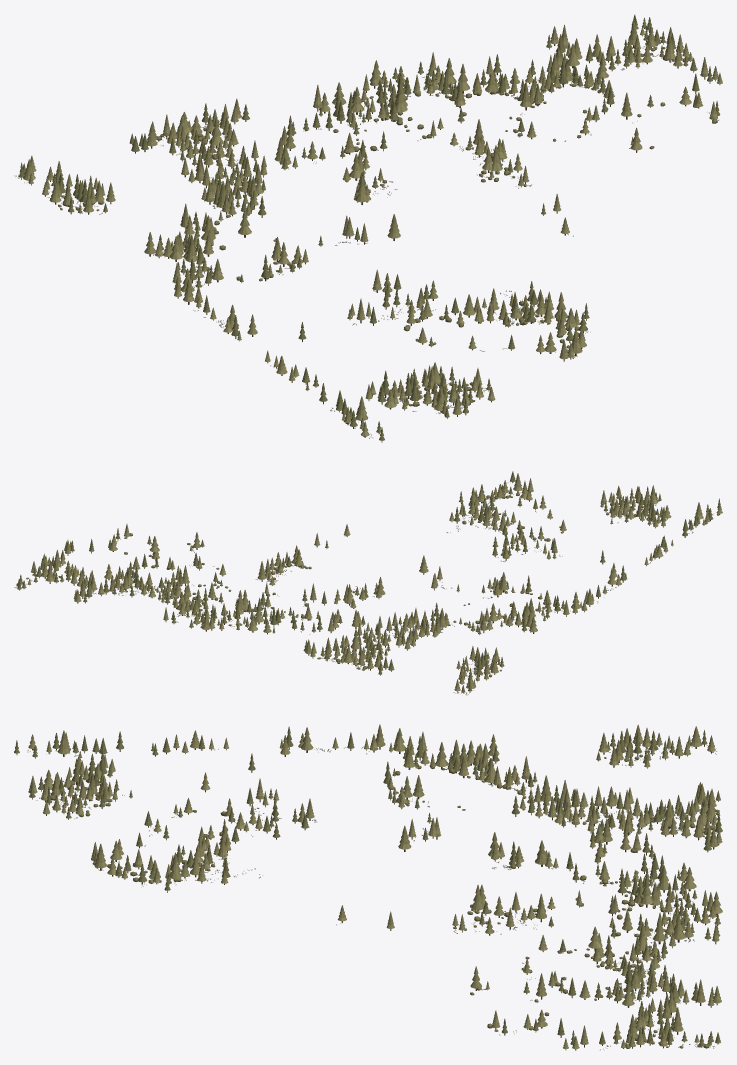
Rendered from Foliage_P2.fbx.
The picture shows the model from 3 angles, top to bottom: view 1: azimuth 30°, elevation 25°; view 2: azimuth 150°, elevation 25°; view 3: azimuth 270°, elevation 25°; orthographic projection. The views are drawn at different scales.
Bounding box in the file's own units: 61592 × 6484 × 60922.
